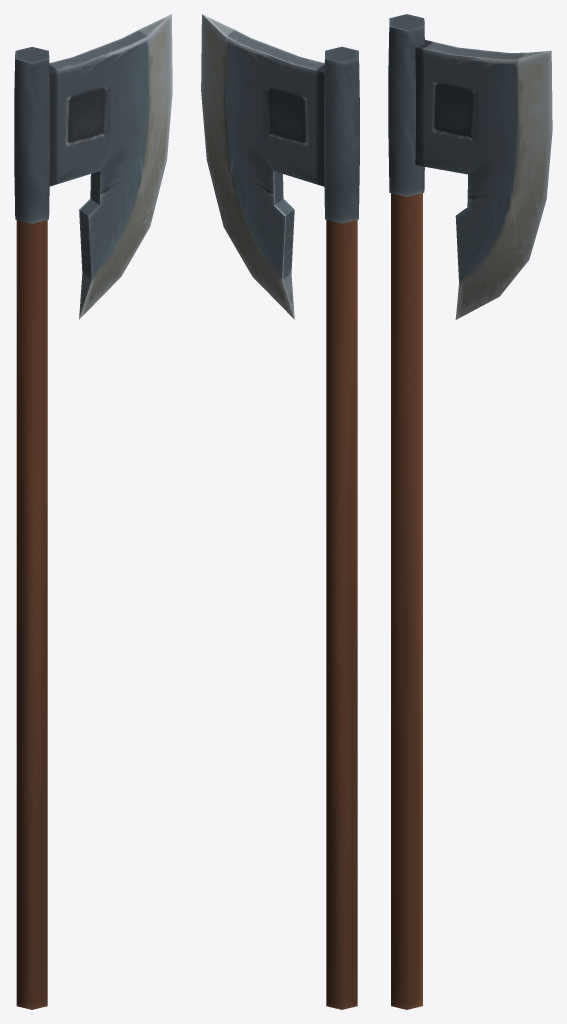
The model's file is wuqi02.fbx.
The picture shows the model from 3 angles, left to right: view 1: azimuth 30°, elevation 25°; view 2: azimuth 150°, elevation 25°; view 3: azimuth 330°, elevation 25°; orthographic projection. The views are drawn at different scales.
Parts seen in each view (by area): view 1: wuqi01; view 2: wuqi01; view 3: wuqi01.
Part boxes in pixels (left/top/right/bottom): wuqi01: left=14, top=14, right=172, bottom=1009; wuqi01: left=201, top=14, right=359, bottom=1009; wuqi01: left=388, top=14, right=552, bottom=1009.
Size of the model in its own units: 9.56 by 54.93 by 1.87.
1 material, 1 textured.
